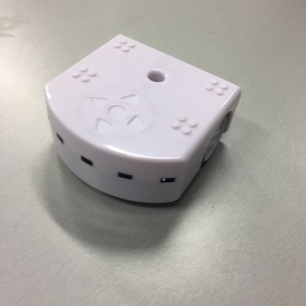thymio: (31, 26, 249, 223)
